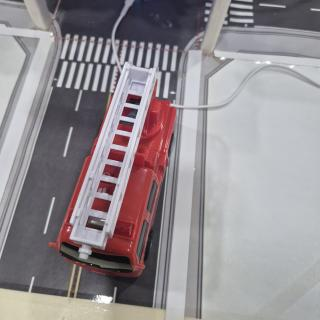Fire_truck: (49, 62, 176, 277)
